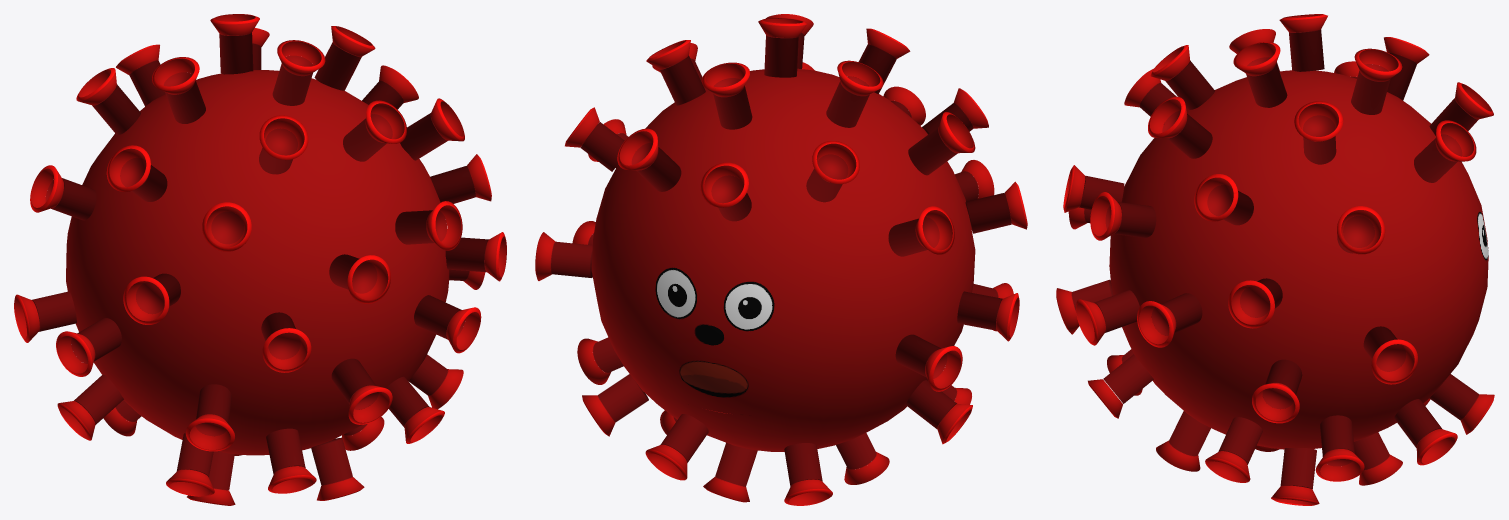
File: 1stEnemy.obj
The picture shows the model from 3 angles, left to right: view 1: azimuth 30°, elevation 25°; view 2: azimuth 150°, elevation 25°; view 3: azimuth 270°, elevation 25°; orthographic projection.
Visible parts, largest first — view 1: 球; view 2: 球; view 3: 球.
Boxes of the visible parts, <box> form: 球: <box>14,14,506,505</box>; 球: <box>535,14,1027,505</box>; 球: <box>1056,14,1494,505</box>.
Size of the model in its own units: 2.56 by 2.53 by 2.3.
Materials: 2 (2 with a texture image).
